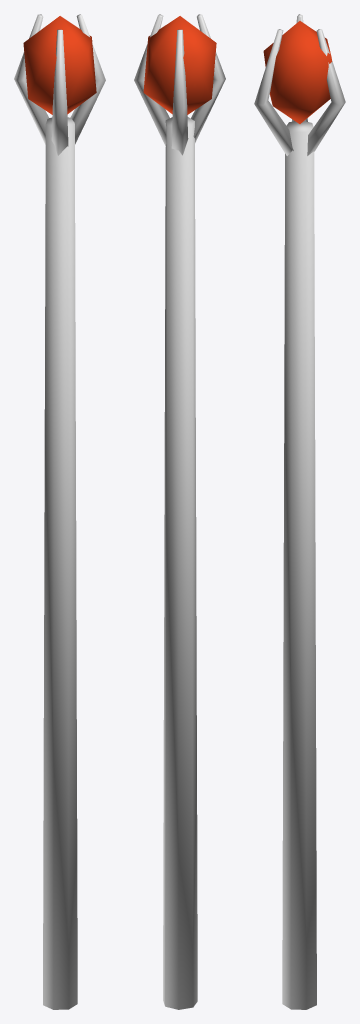
Rendered from imp_staff.glb.
3 views of the same model, side by side, from view 1: azimuth 30°, elevation 25°; view 2: azimuth 150°, elevation 25°; view 3: azimuth 330°, elevation 25° (orthographic).
Visible parts, largest first — view 1: imp_staff_v0; view 2: imp_staff_v0; view 3: imp_staff_v0.
Part boxes in pixels (x1,y1,x2,y2): imp_staff_v0: [14, 14, 105, 1009]; imp_staff_v0: [134, 14, 225, 1009]; imp_staff_v0: [254, 14, 345, 1009].
Bounding box in the file's own units: 0.1164 × 1.46 × 0.1182.
